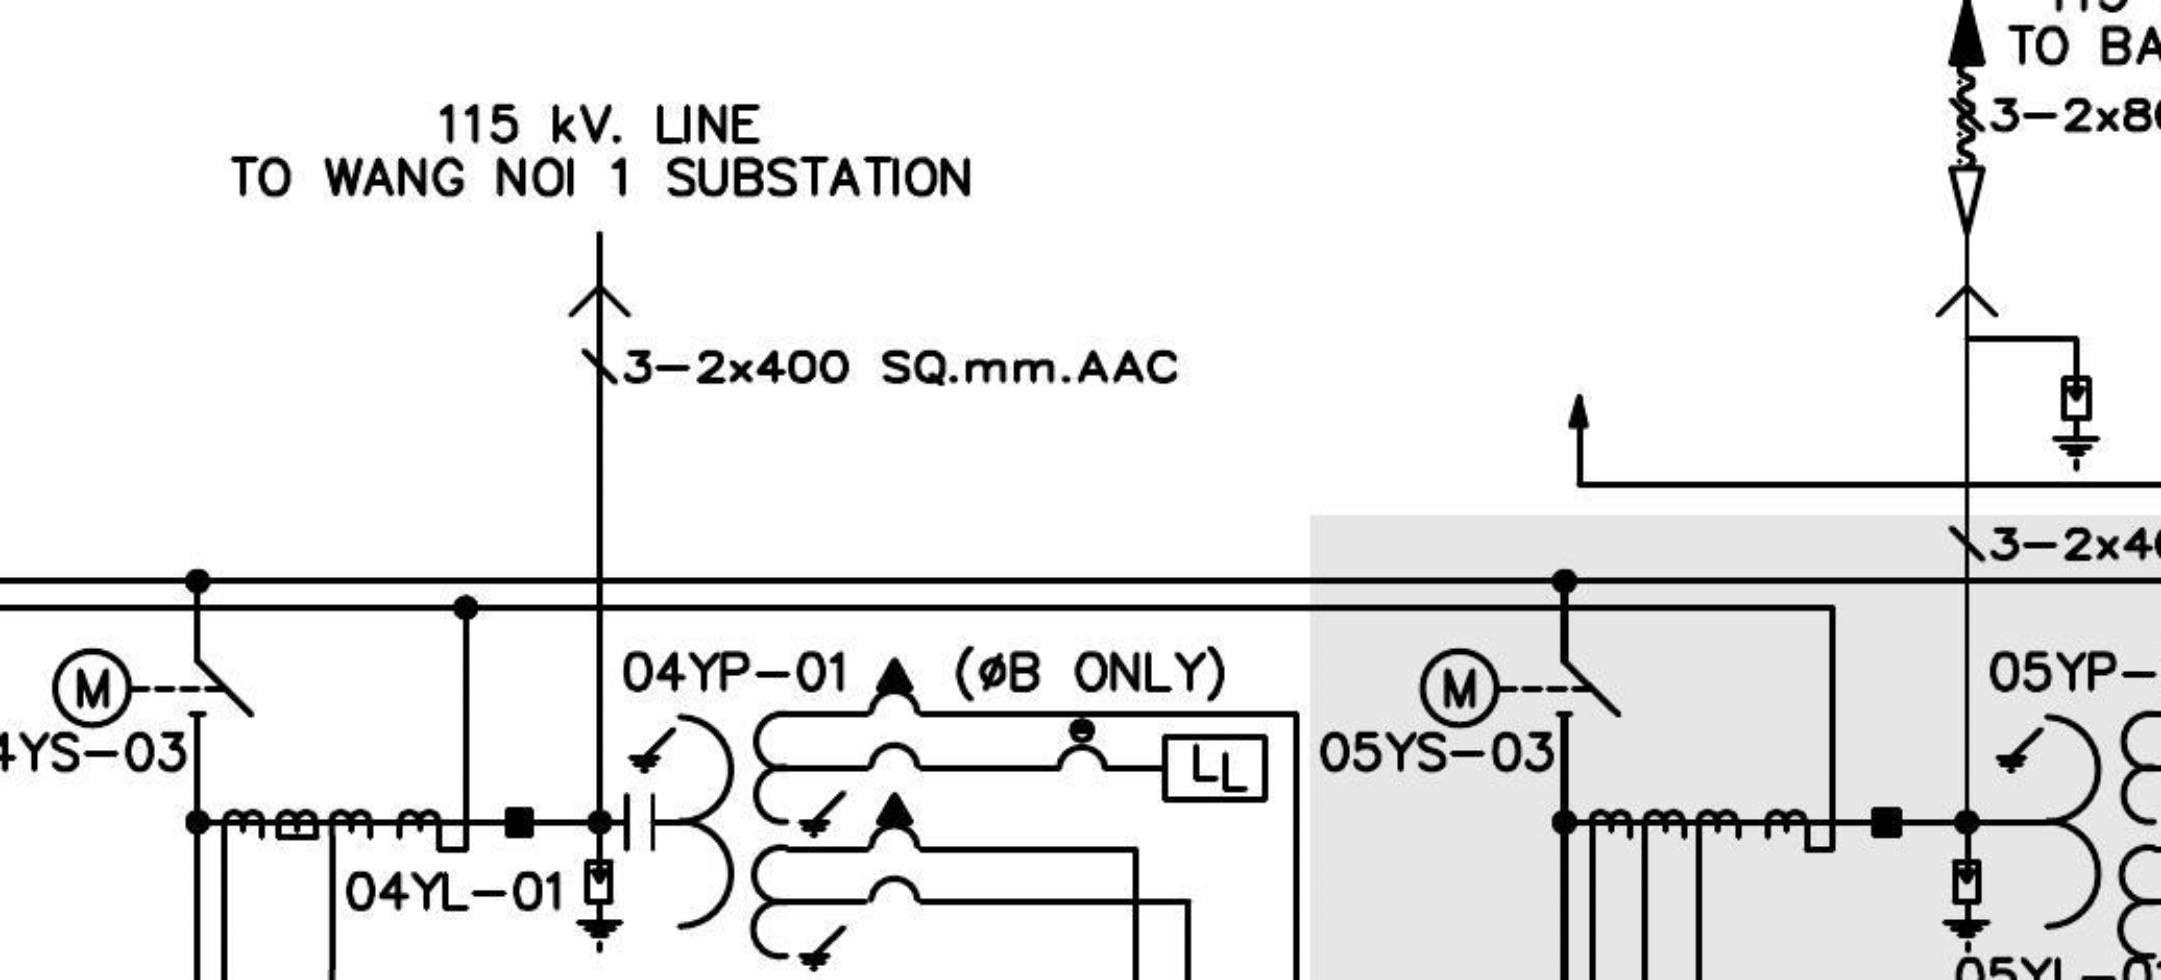115_1way_ds_w_motor: (50, 645, 256, 730), (1417, 646, 1623, 731)
115_cvt_1p: (622, 656, 926, 975)
115_la: (2052, 374, 2101, 474), (575, 859, 625, 955), (1941, 859, 1991, 955)
LL: (1161, 734, 1269, 804)
